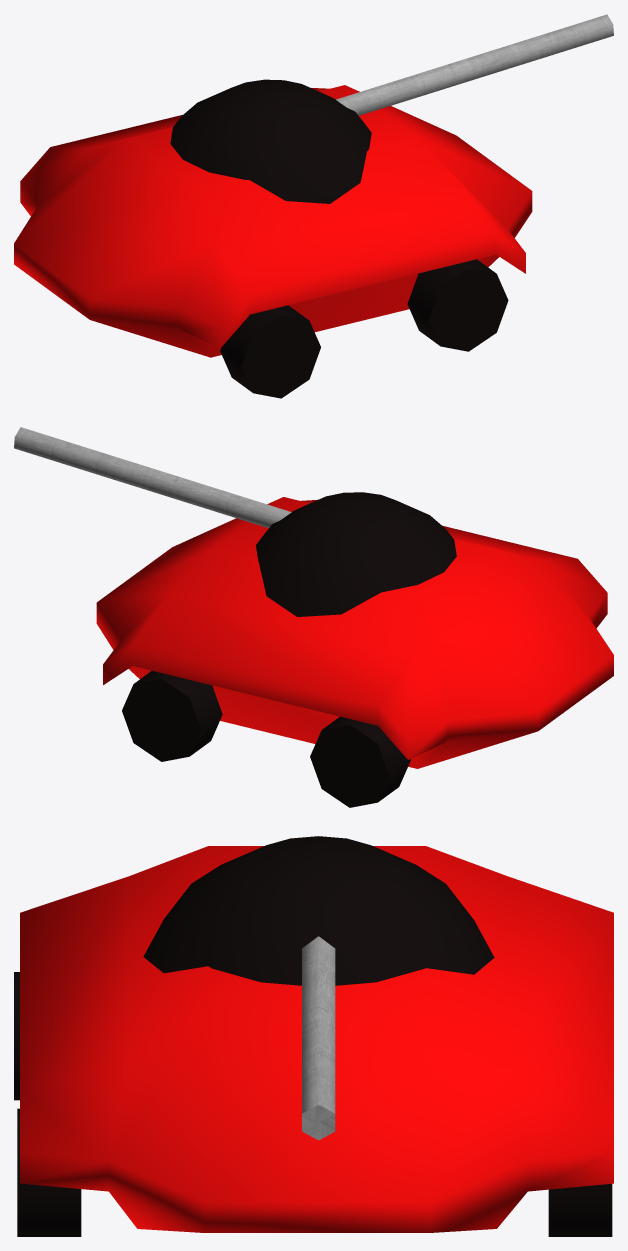
The model's file is tank.obj.
3 views of the same model, one above another, from view 1: azimuth 30°, elevation 25°; view 2: azimuth 150°, elevation 25°; view 3: azimuth 270°, elevation 25° (orthographic). The views are drawn at different scales.
Size of the model in its own units: 2.4 by 0.863 by 1.51.
3 materials, 1 textured.
